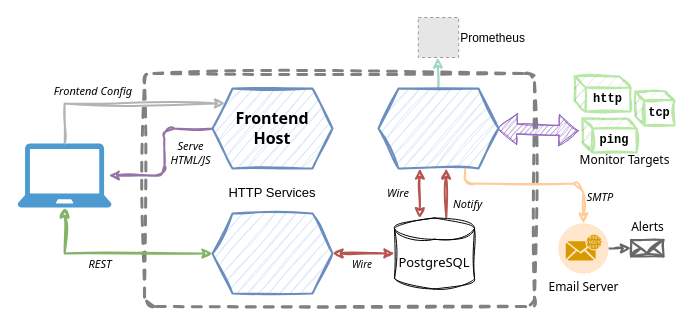
This 692x325 diagram has some shape labels left out. Grey dashed boxes stand in for pictures. Each missing label, with the centre of its shape:
"API" goes at point 272,253.
"Frontend App" goes at point 64,175.
"Runner" goes at point 438,128.
